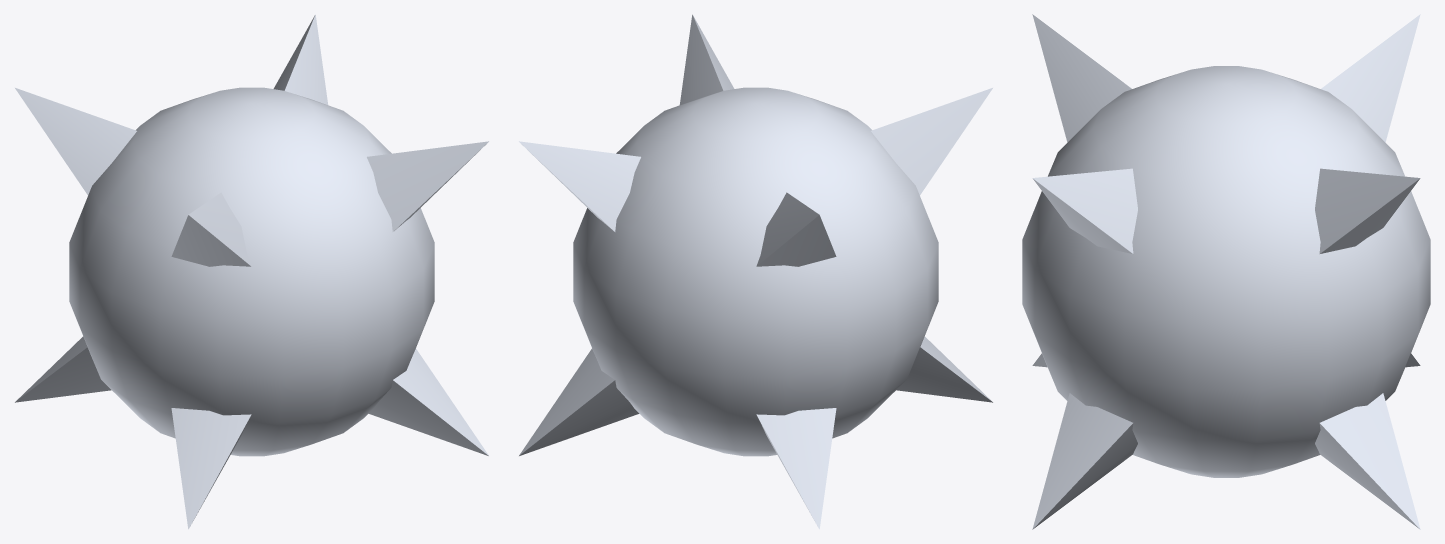
File: Spike E.fbx
3 views of the same model, side by side, from view 1: azimuth 30°, elevation 25°; view 2: azimuth 150°, elevation 25°; view 3: azimuth 270°, elevation 25° (orthographic). The views are drawn at different scales.
Visible parts, largest first — view 1: Spike E; view 2: Spike E; view 3: Spike E.
Part boxes in pixels (box(x1,y1,x2,y2)): Spike E: box(15, 14, 488, 529); Spike E: box(519, 14, 992, 529); Spike E: box(1022, 14, 1430, 529).
Size of the model in its own units: 80.54 by 83.05 by 81.79.
